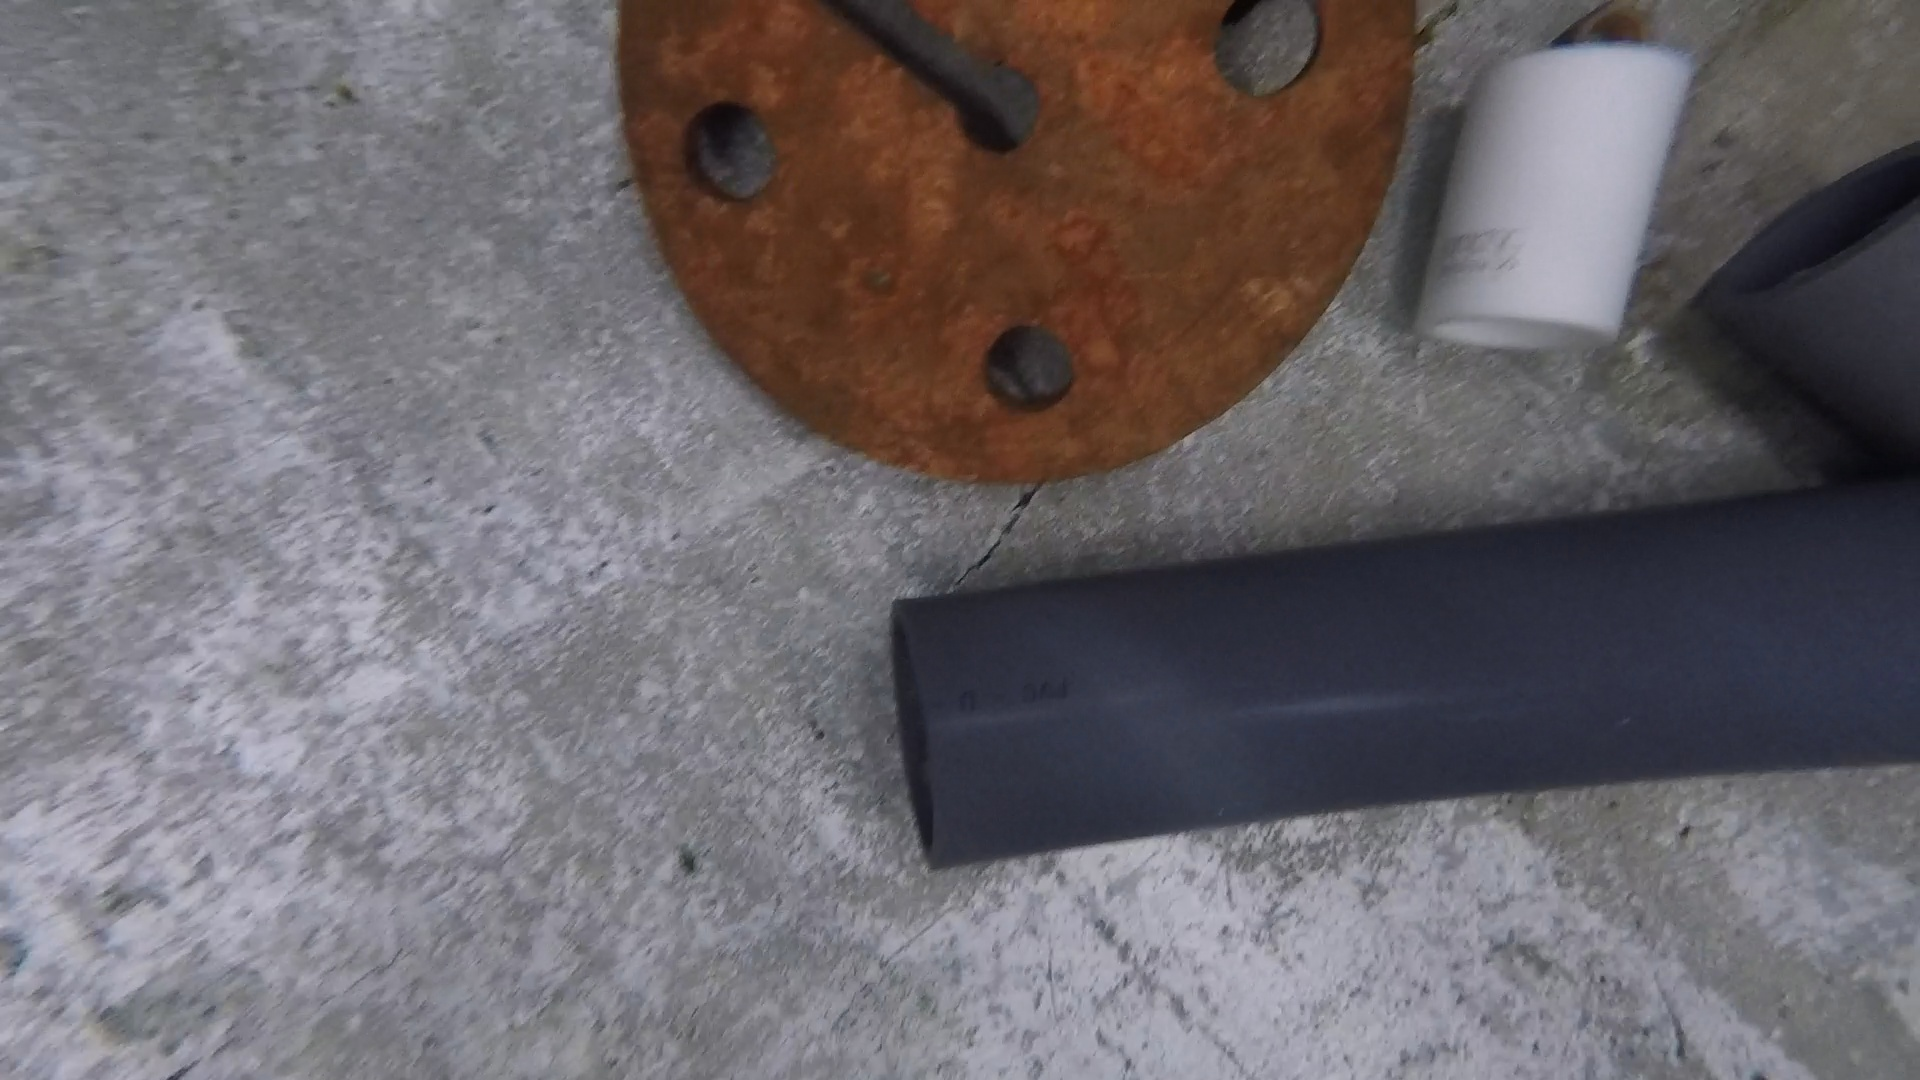flange: (615, 1, 1418, 483)
nut: (1552, 8, 1648, 41)
pipe: (890, 475, 1917, 872), (1412, 40, 1691, 349), (1696, 135, 1920, 471)
